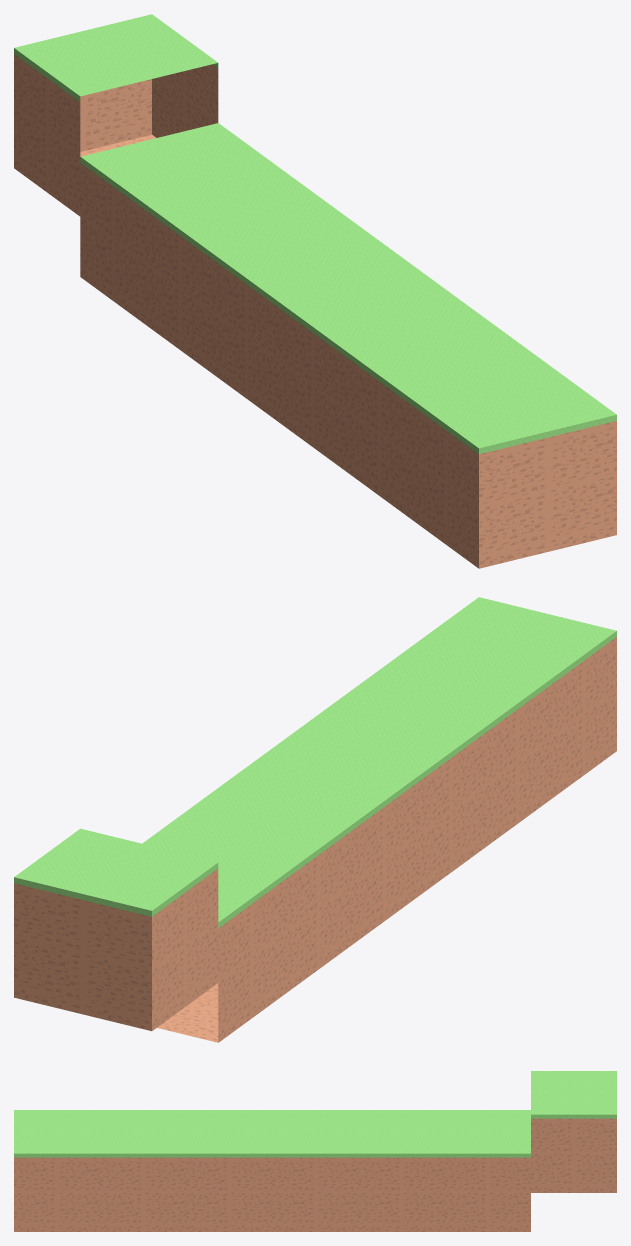
The model's file is StageMap2.gltf.
3 renders of one model, top to bottom at view 1: azimuth 30°, elevation 25°; view 2: azimuth 150°, elevation 25°; view 3: azimuth 270°, elevation 25°, orthographic. The views are drawn at different scales.
Visible parts, largest first — view 1: Cube, Cube.002, Cube.005, Cube.006, Cube.001, Cube.004, Cube.003; view 2: Cube.002, Cube, Cube.001, Cube.005, Cube.004, Cube.003, Cube.006; view 3: Cube.001, Cube.003, Cube.004, Cube.005, Cube.006, Cube, Cube.002.
Part boxes in pixels (x1=…): Cube: x1=412, y1=366, x2=616, y2=568; Cube.002: x1=14, y1=14, x2=218, y2=216; Cube.005: x1=147, y1=171, x2=350, y2=373; Cube.006: x1=80, y1=123, x2=284, y2=325; Cube.001: x1=346, y1=317, x2=549, y2=519; Cube.004: x1=213, y1=220, x2=417, y2=422; Cube.003: x1=279, y1=269, x2=483, y2=470; Cube.002: x1=14, y1=828, x2=218, y2=1031; Cube: x1=413, y1=597, x2=616, y2=799; Cube.001: x1=346, y1=645, x2=550, y2=848; Cube.005: x1=147, y1=791, x2=351, y2=993; Cube.004: x1=213, y1=743, x2=417, y2=945; Cube.003: x1=280, y1=694, x2=483, y2=896; Cube.006: x1=142, y1=840, x2=284, y2=1042; Cube.001: x1=100, y1=1110, x2=186, y2=1231; Cube.003: x1=186, y1=1110, x2=272, y2=1231; Cube.004: x1=272, y1=1110, x2=358, y2=1231; Cube.005: x1=358, y1=1110, x2=444, y2=1231; Cube.006: x1=444, y1=1110, x2=530, y2=1231; Cube: x1=14, y1=1110, x2=99, y2=1231; Cube.002: x1=531, y1=1071, x2=616, y2=1192.
Size of the model in its own units: 12 by 15 by 70.
2 materials, 2 textured.
